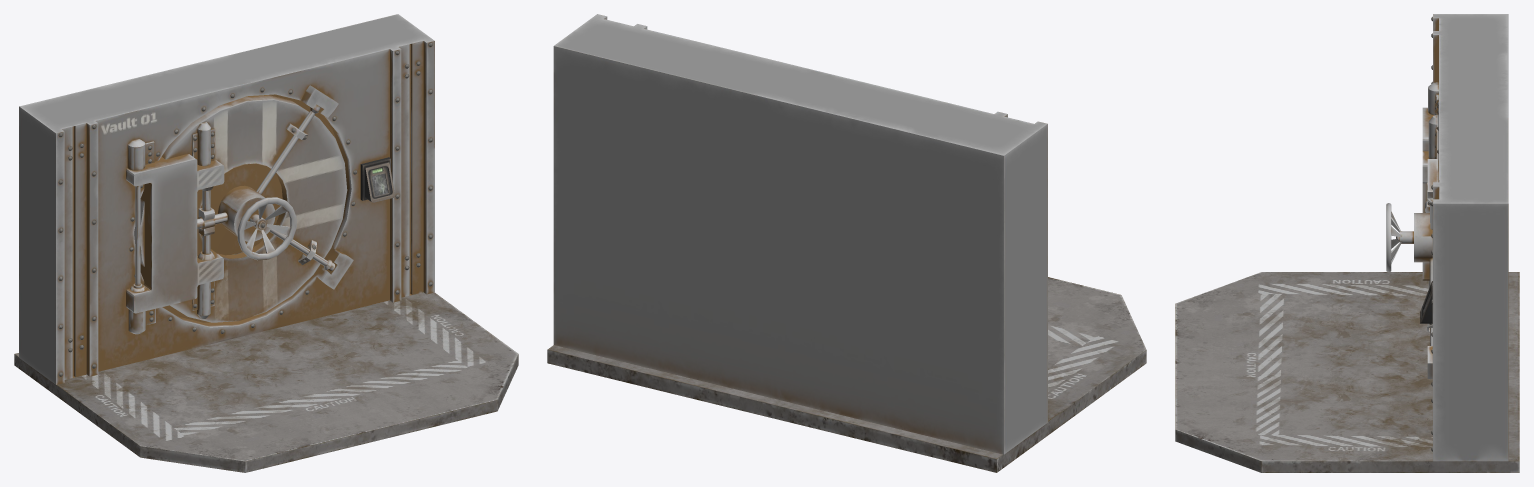
The picture shows the model from 3 angles, left to right: view 1: azimuth 30°, elevation 25°; view 2: azimuth 150°, elevation 25°; view 3: azimuth 270°, elevation 25°; orthographic projection. The views are drawn at different scales.
Parts seen in each view (by area): view 1: Vault, Floor, Bolts, HandScanner; view 2: Vault, Floor; view 3: Floor, Vault, HandScanner.
Part boxes in pixels (bbox=[...]): Vault: bbox=[19, 14, 434, 384]; Floor: bbox=[14, 292, 518, 472]; Bolts: bbox=[58, 42, 432, 376]; HandScanner: bbox=[360, 157, 394, 202]; Vault: bbox=[553, 14, 1047, 454]; Floor: bbox=[547, 277, 1146, 472]; Floor: bbox=[1175, 272, 1519, 472]; Vault: bbox=[1386, 14, 1508, 461]; HandScanner: bbox=[1420, 281, 1432, 323].
Bounding box in the file's own units: 1294 × 858 × 993.
Materials: 4 (4 with a texture image).
